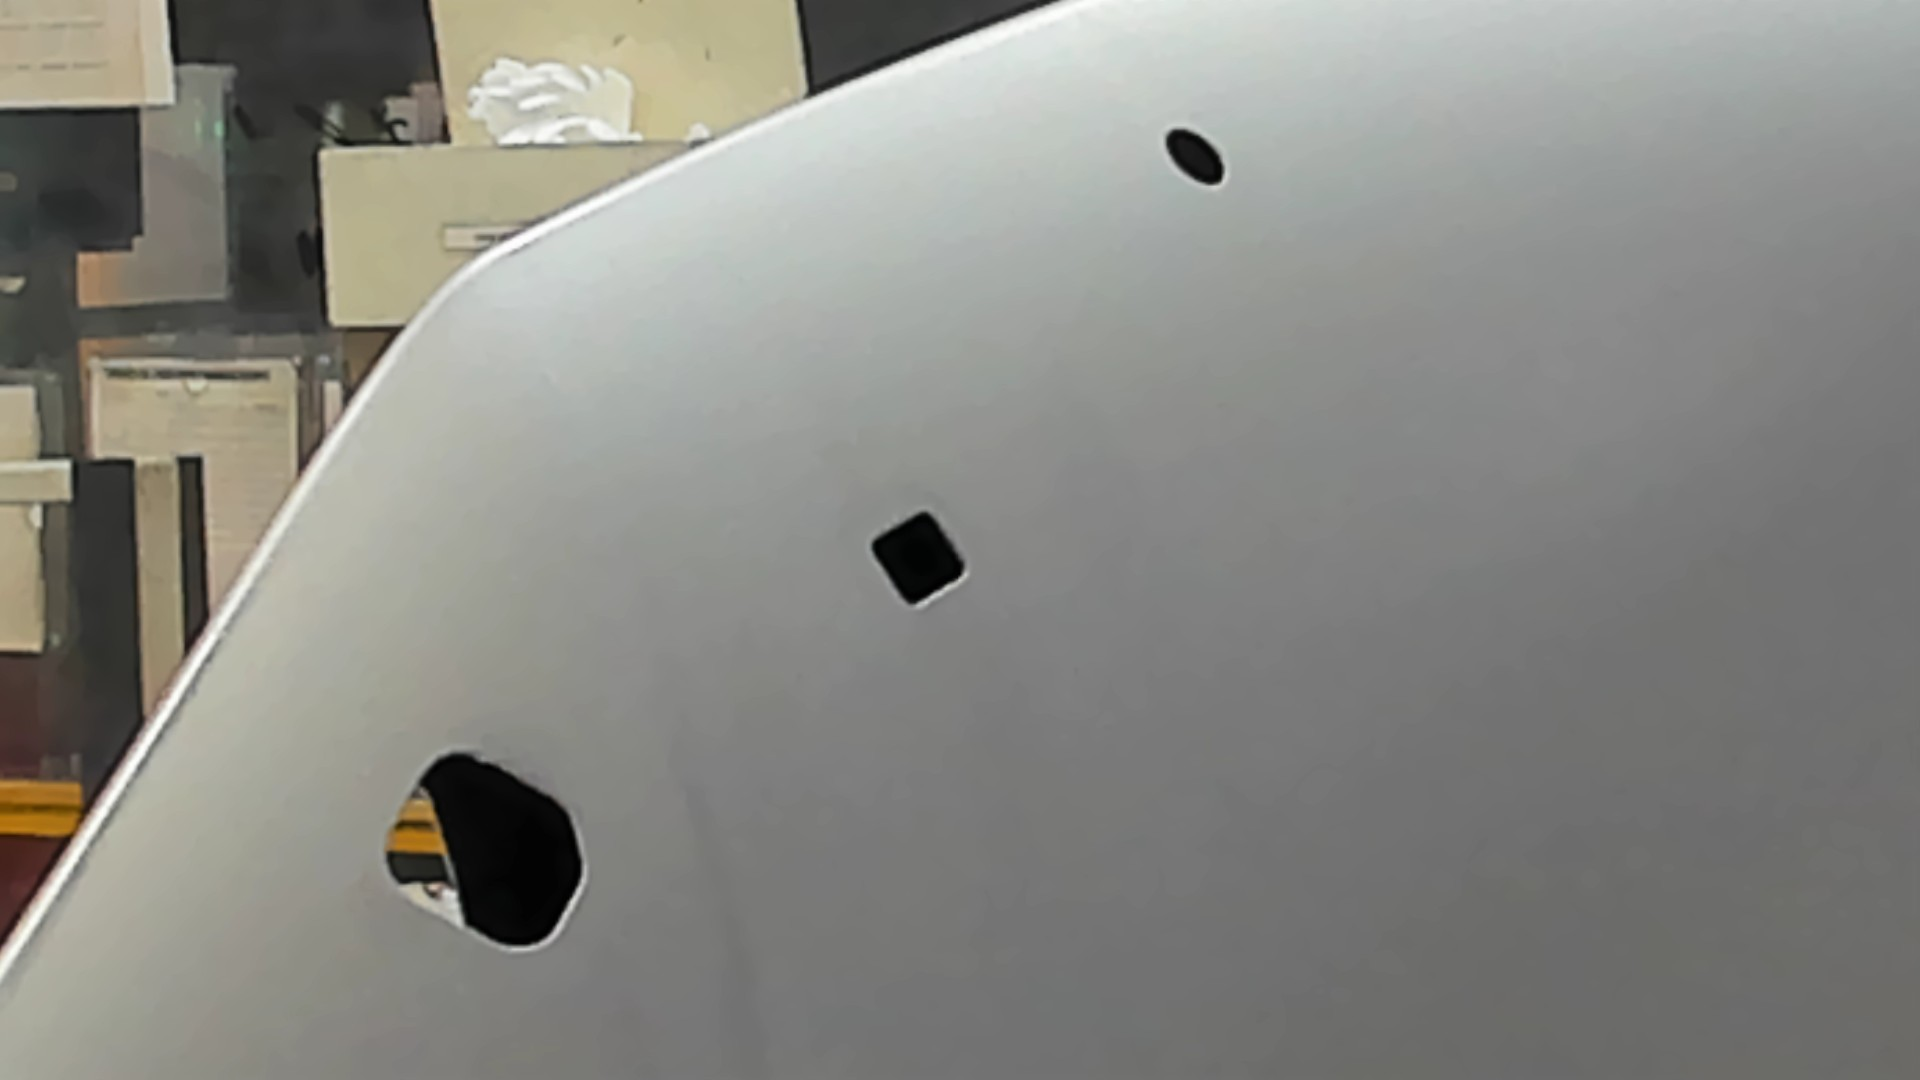Agujero: (866, 506, 967, 609), (1163, 127, 1226, 186)
Agujerote: (382, 749, 588, 953)
